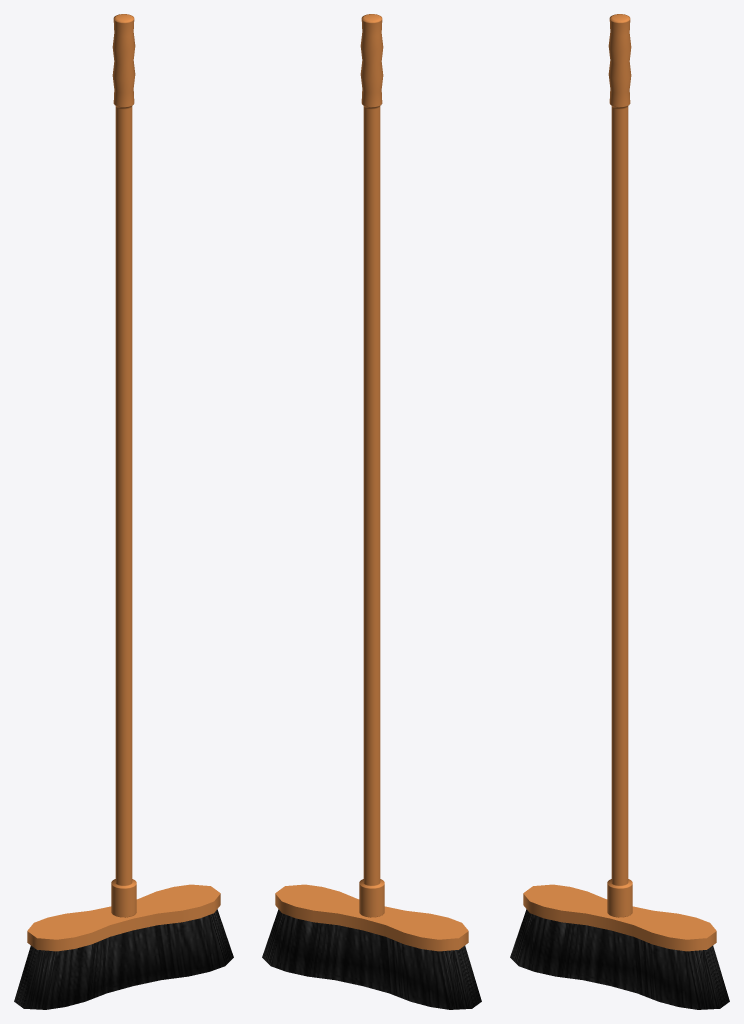
File: broom.obj
3 views of the same model, side by side, from view 1: azimuth 30°, elevation 25°; view 2: azimuth 150°, elevation 25°; view 3: azimuth 330°, elevation 25° (orthographic).
Parts seen in each view (by area): view 1: Cylinder, Cube.001, Cube; view 2: Cylinder, Cube.001, Cube; view 3: Cylinder, Cube.001, Cube.
Boxes of the visible parts, x1,y1,x2,y2 form: Cylinder: [111, 14, 136, 917]; Cube.001: [14, 909, 233, 1009]; Cube: [27, 884, 220, 951]; Cylinder: [359, 14, 384, 917]; Cube.001: [262, 909, 481, 1009]; Cube: [275, 884, 468, 951]; Cylinder: [607, 14, 632, 917]; Cube.001: [510, 909, 729, 1009]; Cube: [523, 884, 716, 951].
Bounding box in the file's own units: 36.57 × 160 × 8.15.
Materials: 2 (1 with a texture image).
